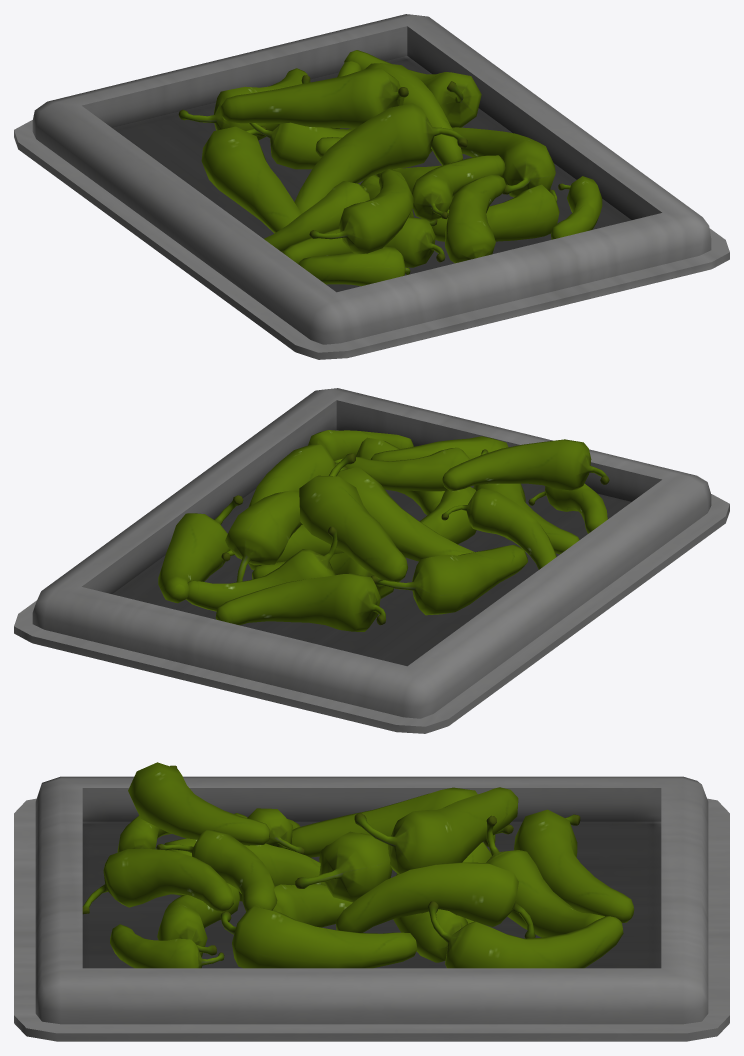
Rendered from rack_japalenos.FBX.
The picture shows the model from 3 angles, top to bottom: view 1: azimuth 30°, elevation 25°; view 2: azimuth 150°, elevation 25°; view 3: azimuth 270°, elevation 25°; orthographic projection. The views are drawn at different scales.
Parts seen in each view (by area): view 1: rack_japalenos; view 2: rack_japalenos; view 3: rack_japalenos.
Part boxes in pixels (bbox=[...]): rack_japalenos: bbox=[14, 14, 729, 359]; rack_japalenos: bbox=[14, 388, 729, 733]; rack_japalenos: bbox=[14, 762, 729, 1041].
Size of the model in its own units: 22.34 by 5.4 by 28.36.
